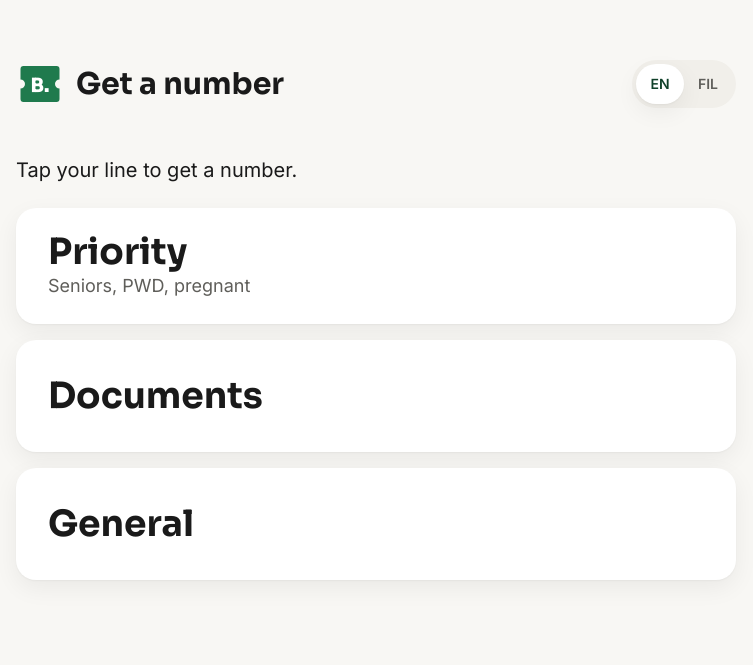
kiosk › asks people to wait when the kiosk is rate limited
This screenshot has width=753, height=665.
Step 1. Click the button "General" → (121, 524), box [16, 468, 736, 580]
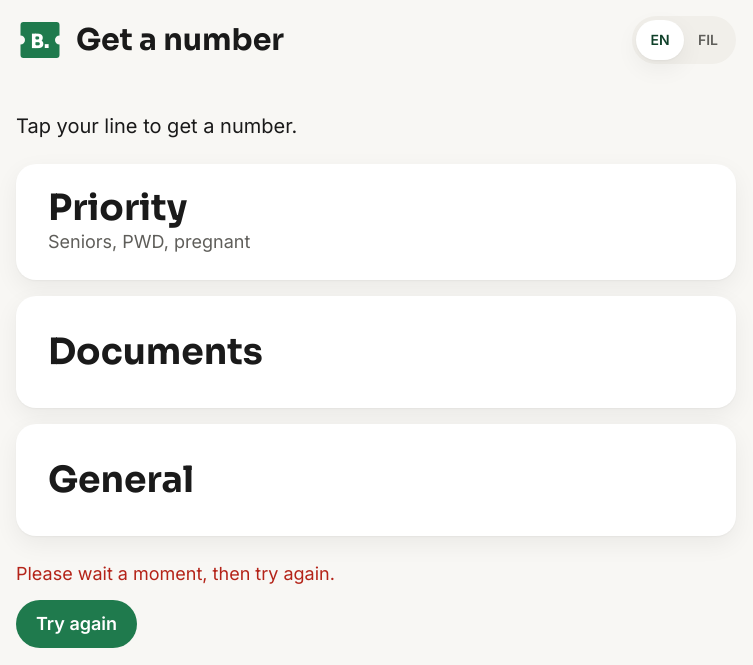
Check: the text "Please wait a moment, then try again." is shown, box [16, 560, 335, 588]
